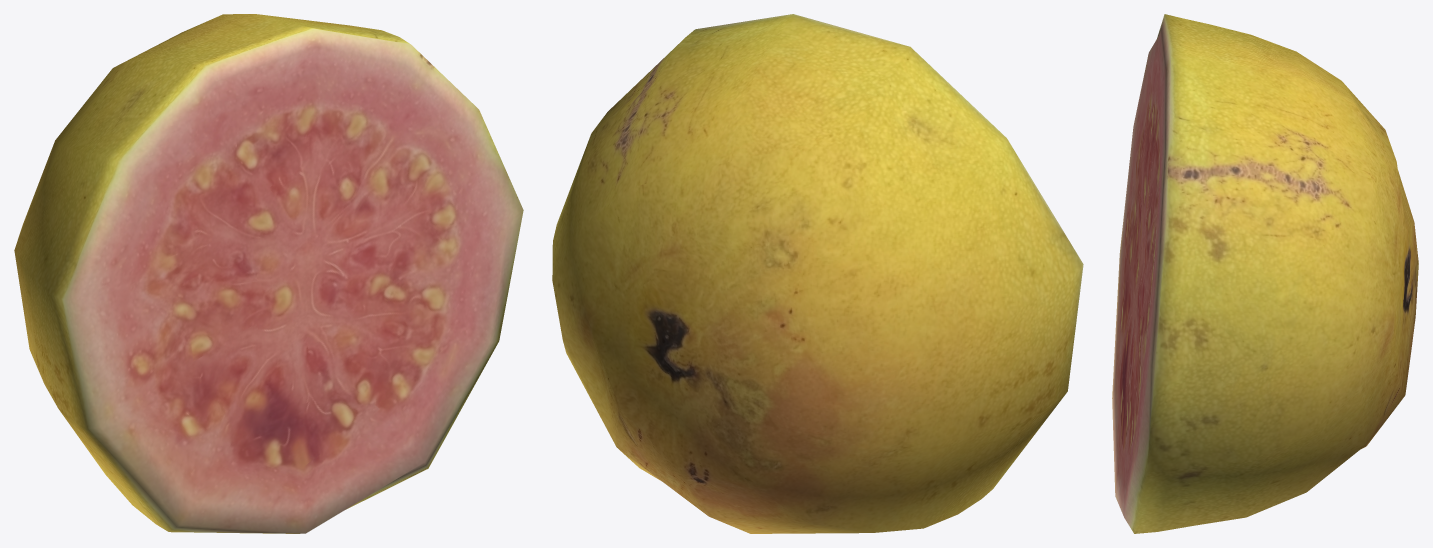
Rendered from A30_Guava_low.fbx.
3 views of the same model, side by side, from view 1: azimuth 30°, elevation 25°; view 2: azimuth 150°, elevation 25°; view 3: azimuth 270°, elevation 25° (orthographic). The views are drawn at different scales.
Parts seen in each view (by area): view 1: A30_Guava_low; view 2: A30_Guava_low; view 3: A30_Guava_low.
Boxes of the visible parts, x1,y1,x2,y2 form: A30_Guava_low: (14,14,523,533); A30_Guava_low: (552,14,1083,533); A30_Guava_low: (1112,14,1418,533).
Size of the model in its own units: 9.84 by 5.81 by 9.64.
Materials: 1 (1 with a texture image).
